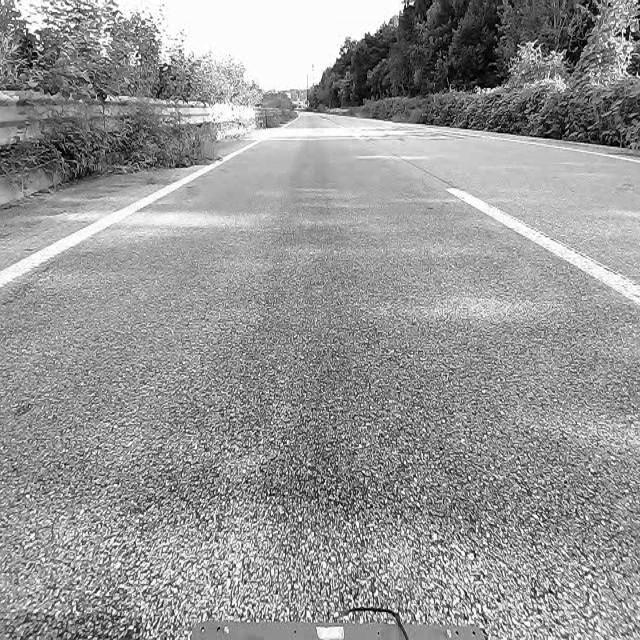Lane: (0, 135, 262, 285), (0, 140, 262, 288), (443, 184, 640, 313), (445, 187, 639, 306)
